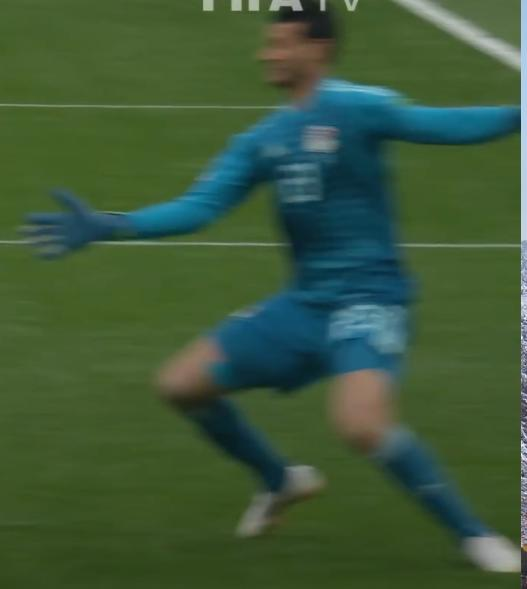goalkeeper: (9, 0, 527, 589)
